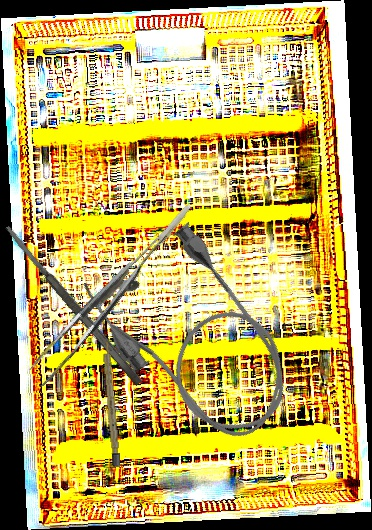Cannula: (72, 209, 315, 468)
Scalpel Handle: (101, 336, 121, 468)
Spatula Surgical: (3, 222, 144, 388)
Tissue Forceps: (11, 203, 219, 388)
